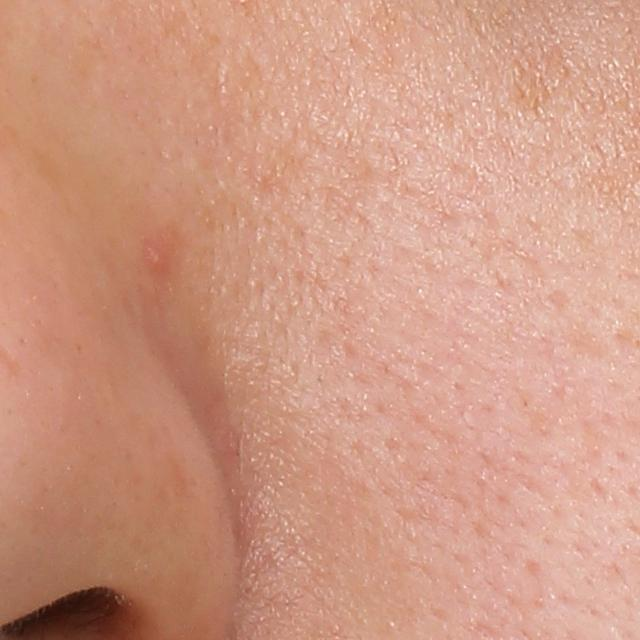melasma: (506, 38, 577, 120)
papule: (143, 237, 173, 275)
